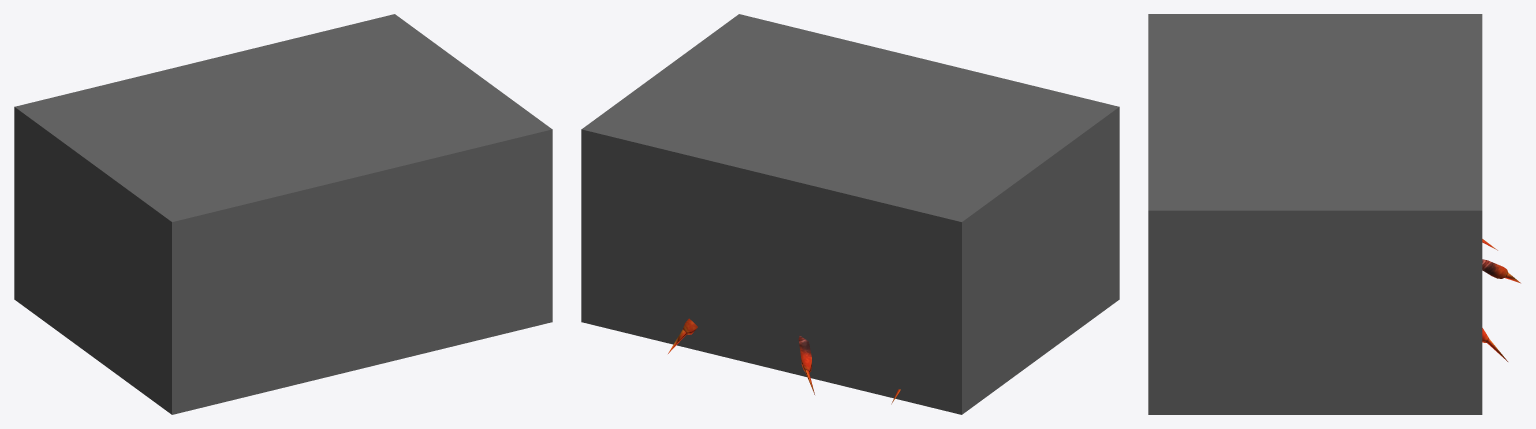
The model's file is Crab_corpse.dae.
The picture shows the model from 3 angles, left to right: view 1: azimuth 30°, elevation 25°; view 2: azimuth 150°, elevation 25°; view 3: azimuth 270°, elevation 25°; orthographic projection. The views are drawn at different scales.
Visible parts, largest first — view 1: pickingBox, boundingBox; view 2: pickingBox, boundingBox, Crab_Corpse; view 3: pickingBox, boundingBox, Crab_Corpse.
Part boxes in pixels (bbox=[...]): pickingBox: bbox=[14, 14, 552, 414]; boundingBox: bbox=[94, 40, 470, 193]; pickingBox: bbox=[581, 14, 1119, 414]; boundingBox: bbox=[730, 42, 1009, 195]; Crab_Corpse: bbox=[668, 318, 900, 404]; pickingBox: bbox=[1148, 14, 1482, 414]; boundingBox: bbox=[1192, 42, 1445, 182]; Crab_Corpse: bbox=[1482, 239, 1520, 361].
Bounding box in the file's own units: 1.96 × 0.986 × 1.57.
2 materials, 1 textured.
